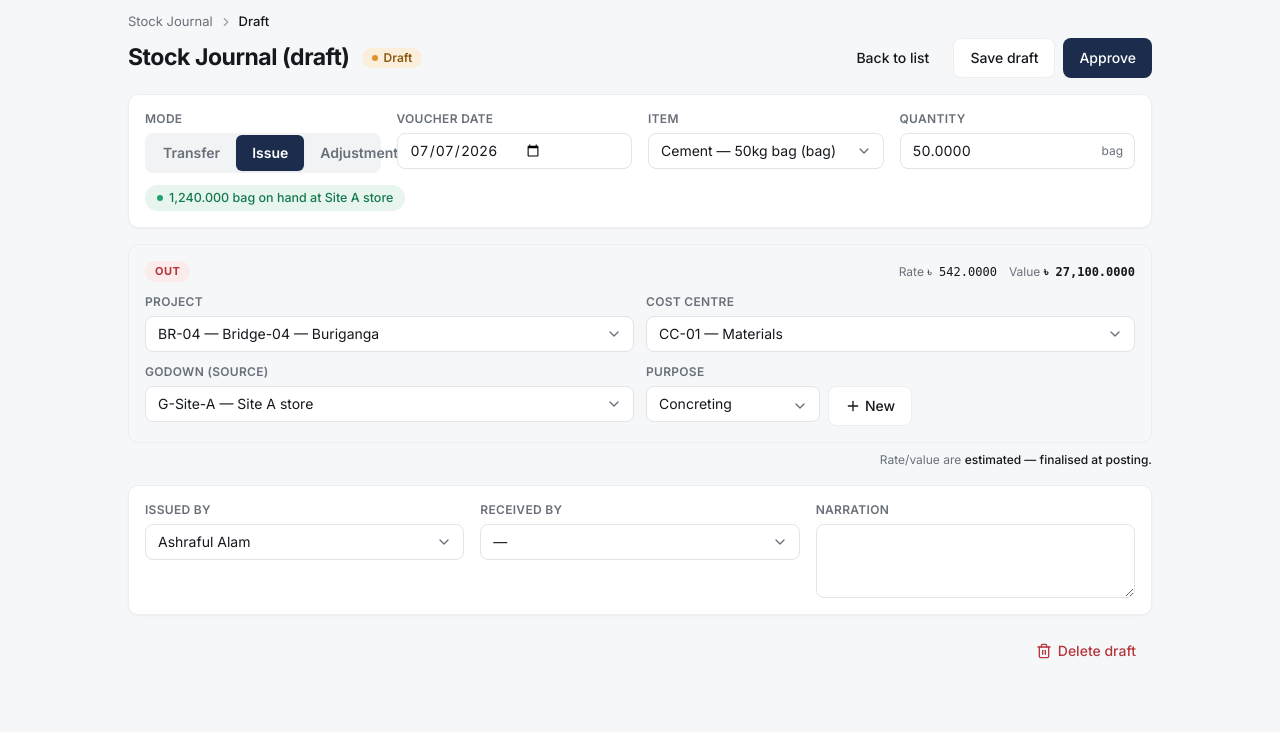
Test case: StockJournalEditor — lifecycle (FR-INV-012/018/020) › approve → post reveals the right action at each status (Admin)
What coordinates should you click on to do the following:
click the button with test id "sj-approve"
I would click on:
 (1108, 58)
Its box is left=1063, top=38, right=1152, bottom=78.
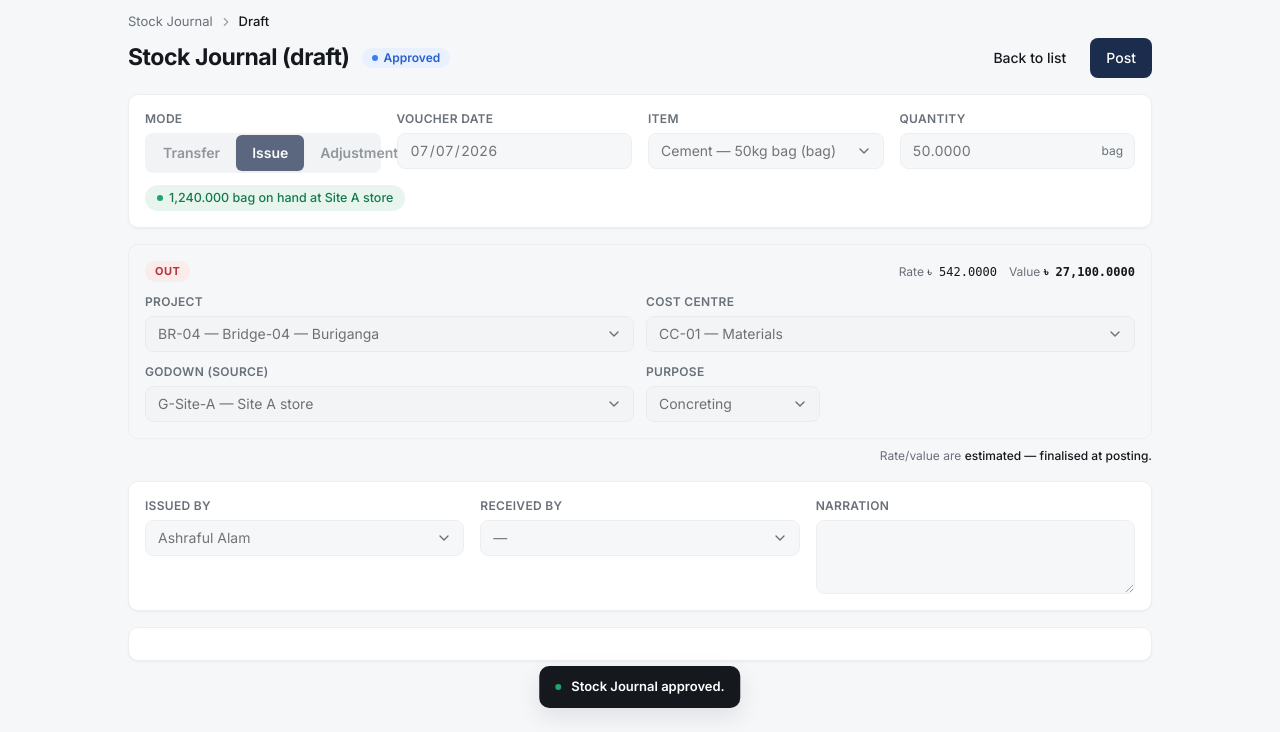
Now the button with test id "sj-post" is shown
Now the button with test id "sj-approve" is gone
What coordinates should you click on to do the following:
click the button with test id "sj-post"
I would click on:
 (1121, 58)
Its box is left=1090, top=38, right=1152, bottom=78.
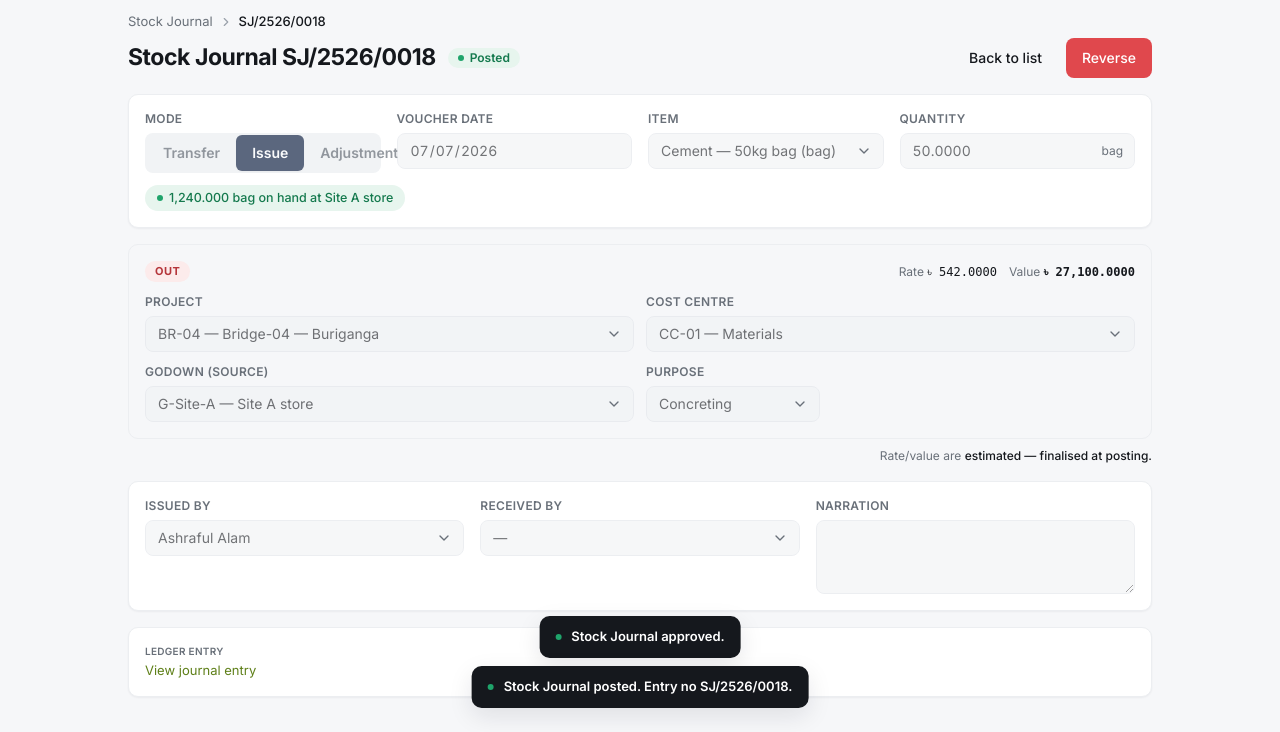
Now the button with test id "sj-reverse" is shown, box left=1066, top=38, right=1152, bottom=78
Now the element with test id "sj-status-POSTED" is shown, box left=448, top=48, right=520, bottom=68
